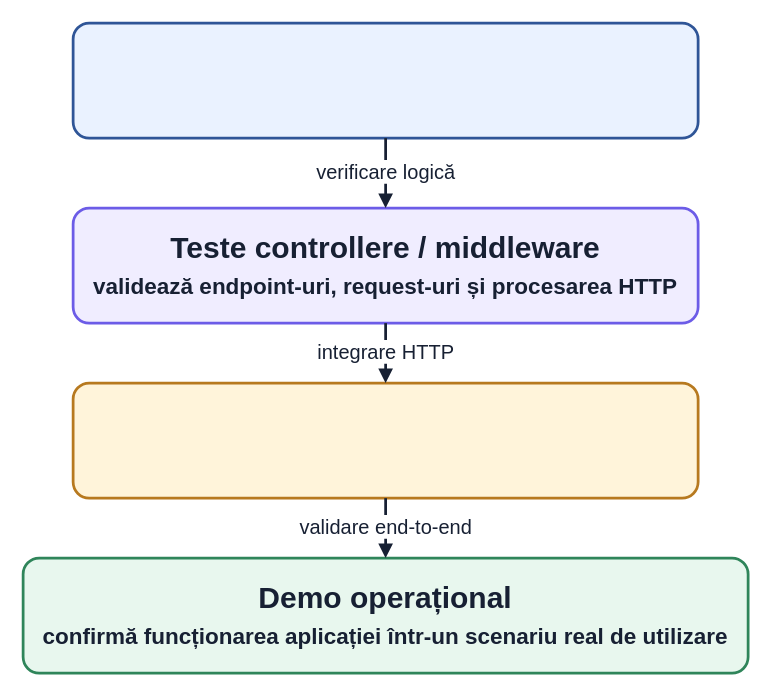
Some shapes in this 771 by 696 pixel diagram are drawn without their labels. Here are the shapes that lost their labels. From the top down, the centre of each, then its label:
At point (385, 80): "Teste unitare / servicii verifică logica internă și comportamentul serviciilor".
At point (385, 440): "Scenarii funcționale testează fluxuri complete și interacțiuni dintre module".
